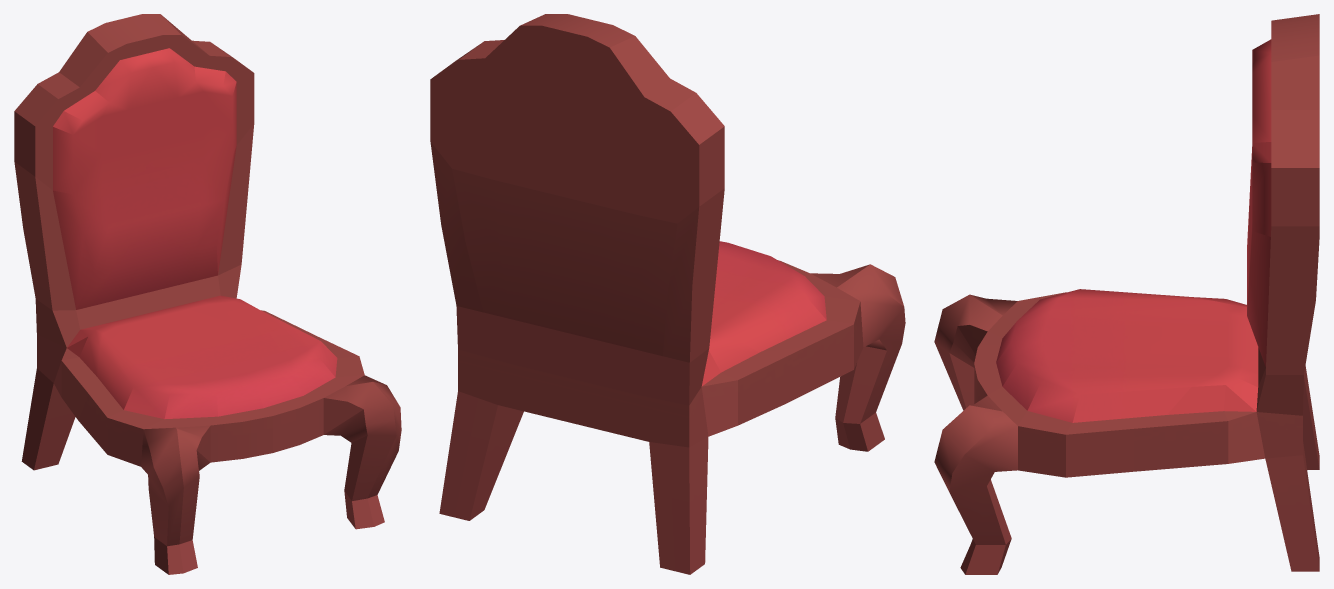
Rendered from chair.fbx.
3 views of the same model, side by side, from view 1: azimuth 30°, elevation 25°; view 2: azimuth 150°, elevation 25°; view 3: azimuth 270°, elevation 25° (orthographic). The views are drawn at different scales.
Visible parts, largest first — view 1: istuin2; view 2: istuin2; view 3: istuin2.
Part boxes in pixels (x1,y1,x2,y2): istuin2: (14, 14, 401, 574); istuin2: (430, 14, 905, 574); istuin2: (934, 14, 1319, 574).
Size of the model in its own units: 0.6677 by 1.06 by 0.7634.
